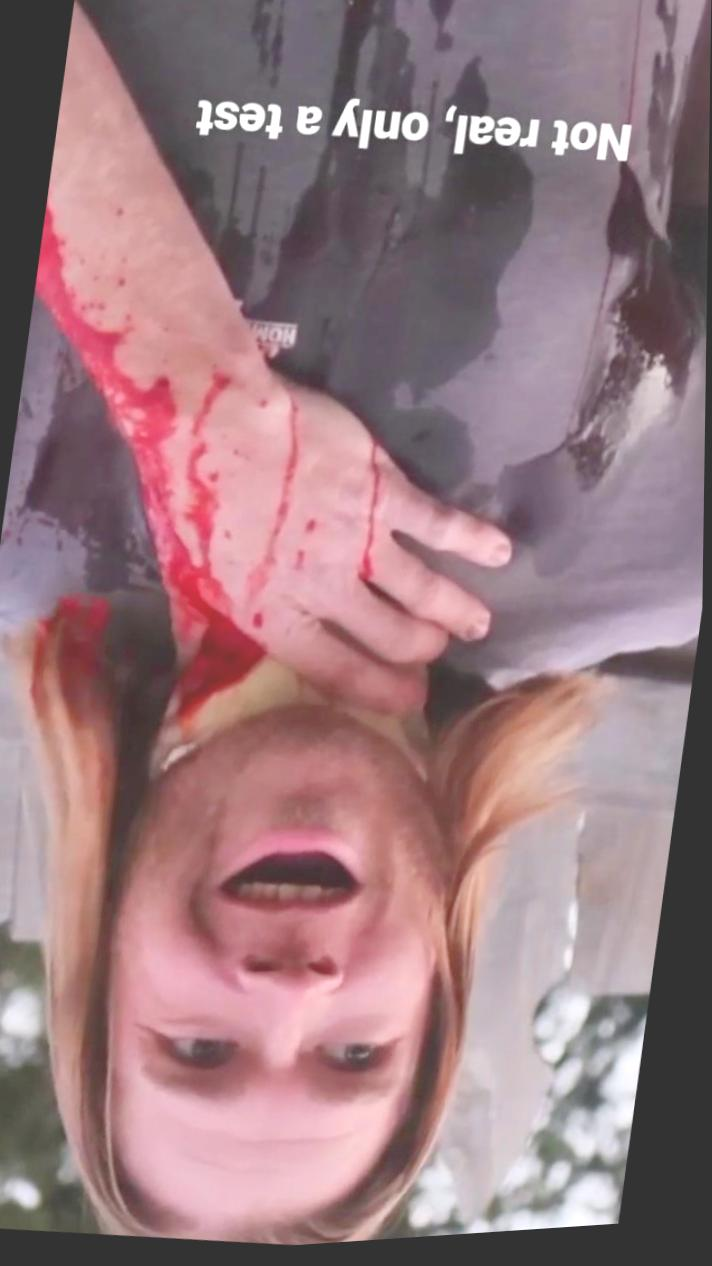Fire: (36, 198, 269, 724), (0, 297, 163, 630), (214, 374, 346, 664), (189, 368, 244, 536), (360, 439, 401, 587)
